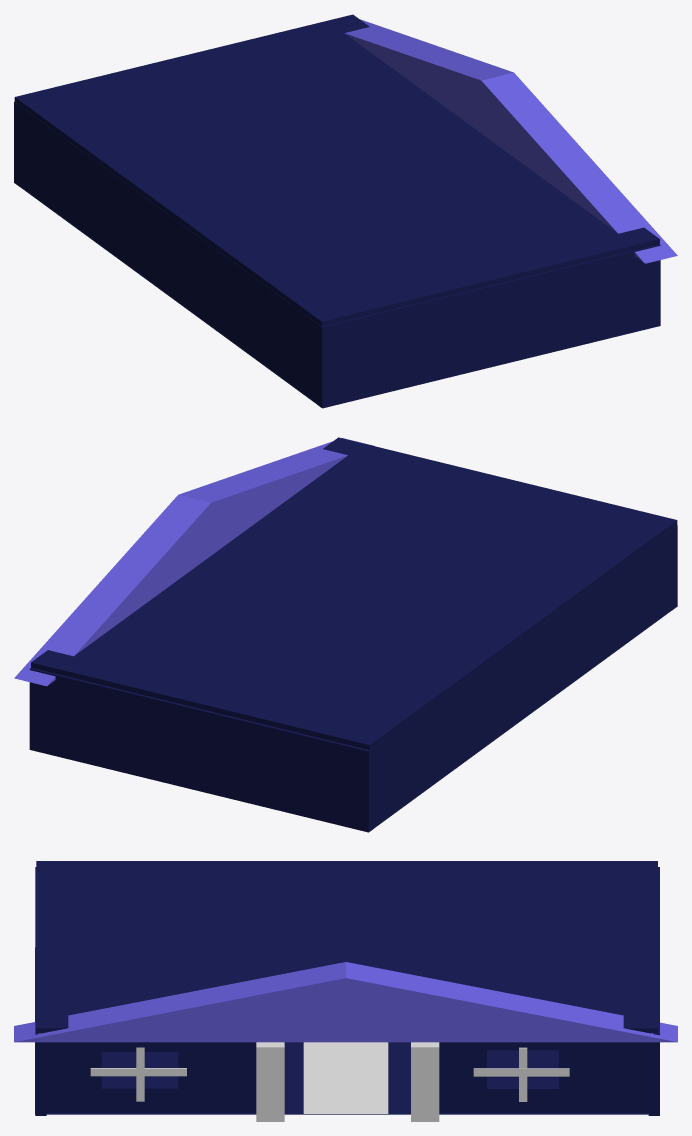
Rendered from biblioteca.glb.
The picture shows the model from 3 angles, top to bottom: view 1: azimuth 30°, elevation 25°; view 2: azimuth 150°, elevation 25°; view 3: azimuth 270°, elevation 25°; orthographic projection.
Visible parts, largest first — view 1: Cube.004, Cube.001, Cube.003, Cylinder; view 2: Cube.004, Cube.002, Cube.003, Cylinder; view 3: Cube.004, Cylinder, Cube.005, Cube.006, Cube, Plane, Cube.012, Cube.013, Cube.010, Cube.011, Cube.002, Cube.001.
Boxes of the visible parts, box(x1,y1,x2,y2) form: Cube.004: box(14, 14, 659, 326); Cube.001: box(316, 244, 660, 408); Cube.003: box(19, 106, 316, 403); Cylinder: box(344, 19, 677, 263); Cube.004: box(31, 437, 677, 749); Cube.002: box(29, 667, 374, 832); Cube.003: box(374, 526, 675, 827); Cylinder: box(14, 438, 374, 686); Cube.004: box(36, 861, 657, 1033); Cylinder: box(14, 962, 677, 1042); Cube.005: box(46, 1042, 256, 1112); Cube.006: box(439, 1042, 648, 1112); Cube: box(35, 947, 648, 1114); Plane: box(303, 1042, 388, 1113); Cube.012: box(256, 1042, 284, 1121); Cube.013: box(411, 1042, 439, 1121); Cube.010: box(90, 1047, 186, 1101); Cube.011: box(473, 1047, 569, 1101); Cube.002: box(648, 867, 659, 1115); Cube.001: box(35, 867, 46, 1115).
Bounding box in the file's own units: 29.29 × 11.03 × 46.99.
